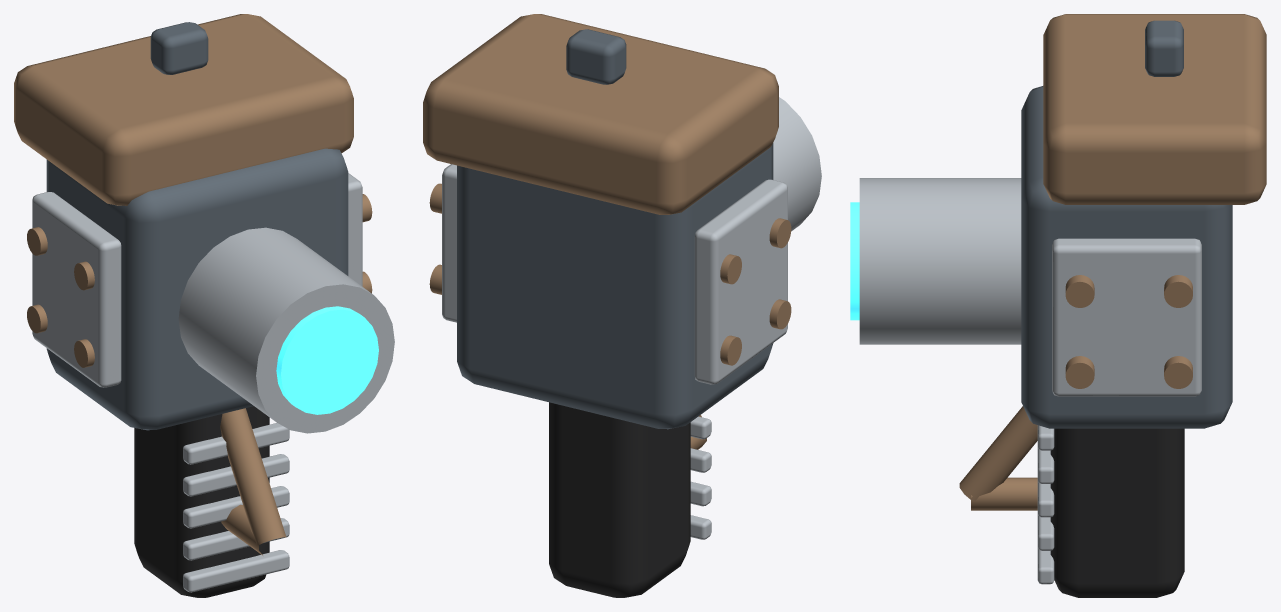
Rendered from arena-shooter-map-kit-blaster-pickup-5eb10110__23135.glb.
The picture shows the model from 3 angles, left to right: view 1: azimuth 30°, elevation 25°; view 2: azimuth 150°, elevation 25°; view 3: azimuth 270°, elevation 25°; orthographic projection. The views are drawn at different scales.
Parts seen in each view (by area): view 1: blaster-pickup; view 2: blaster-pickup; view 3: blaster-pickup.
Part boxes in pixels (x1,y1,x2,y2): blaster-pickup: (14, 14, 394, 597); blaster-pickup: (423, 14, 821, 597); blaster-pickup: (850, 14, 1266, 597).
Bounding box in the file's own units: 0.307 × 0.55 × 0.373.
